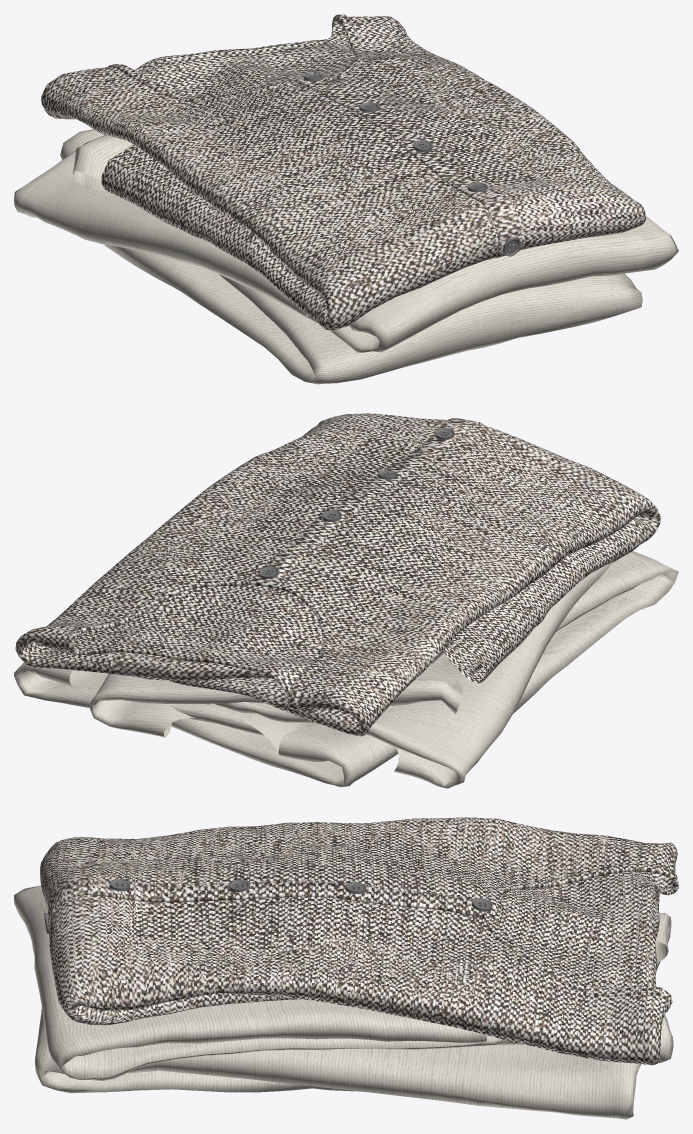
Rendered from addition-stack-mid.glb.
3 renders of one model, top to bottom at view 1: azimuth 30°, elevation 25°; view 2: azimuth 150°, elevation 25°; view 3: azimuth 270°, elevation 25°, orthographic. The views are drawn at different scales.
Visible parts, largest first — view 1: cloth017, cloth018, cloth019; view 2: cloth017, cloth018, cloth019; view 3: cloth017, cloth019, cloth018.
Boxes of the visible parts, bbox=[...] form: cloth017: bbox=[41, 14, 646, 330]; cloth018: bbox=[14, 135, 678, 352]; cloth019: bbox=[60, 129, 642, 384]; cloth017: bbox=[15, 413, 660, 736]; cloth018: bbox=[89, 556, 623, 788]; cloth019: bbox=[14, 551, 678, 787]; cloth017: bbox=[40, 817, 678, 1065]; cloth019: bbox=[34, 913, 671, 1119]; cloth018: bbox=[14, 885, 673, 1080].
Bounding box in the file's own units: 0.3145 × 0.0964 × 0.39.
Materials: 4 (3 with a texture image).
